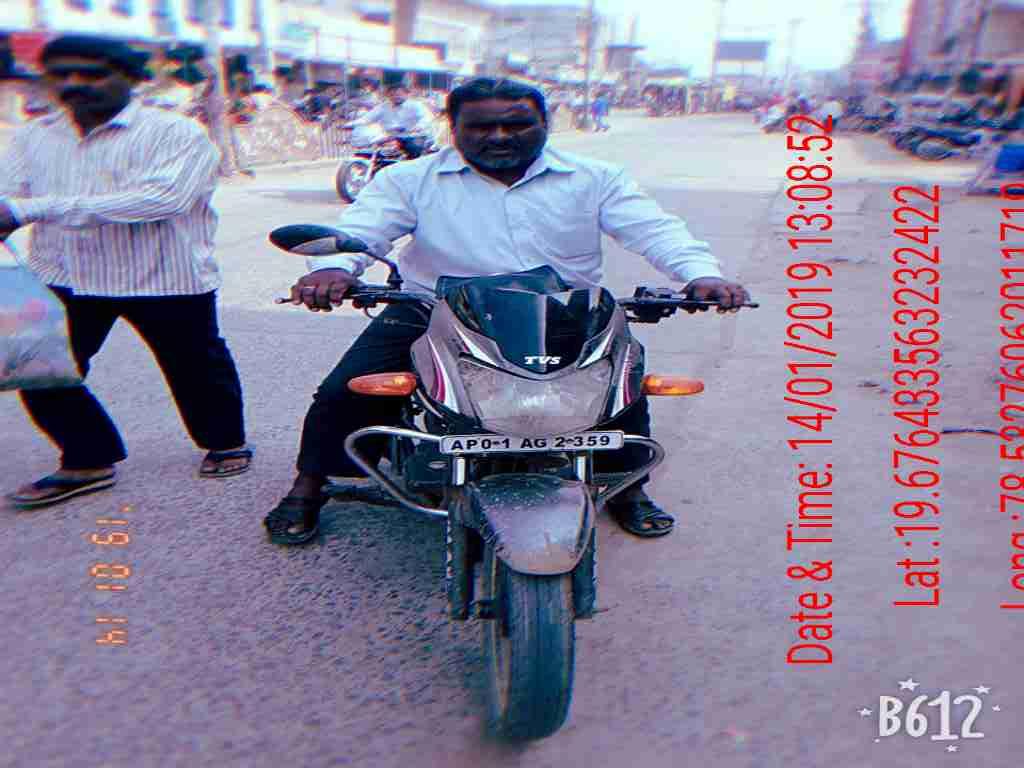plate: (435, 428, 625, 454)
